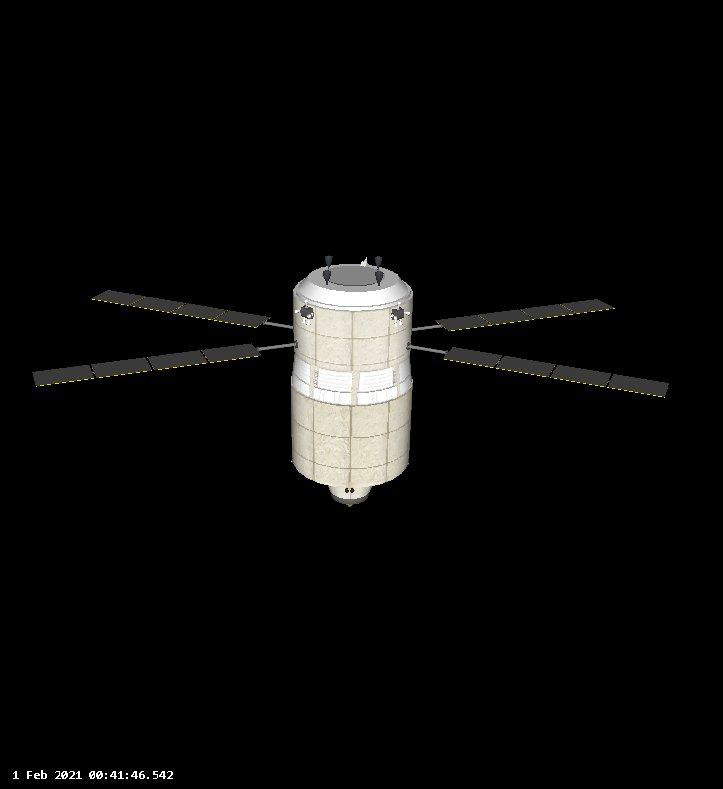body: (288, 262, 415, 511)
solar: (441, 345, 672, 401), (29, 341, 264, 391), (88, 287, 275, 331), (434, 296, 618, 333)
thruster: (372, 253, 386, 270), (321, 266, 333, 285), (373, 268, 386, 285), (323, 253, 336, 268), (301, 297, 309, 308), (395, 300, 403, 310), (403, 309, 413, 317), (293, 308, 302, 315), (398, 318, 405, 327), (301, 317, 307, 325)
